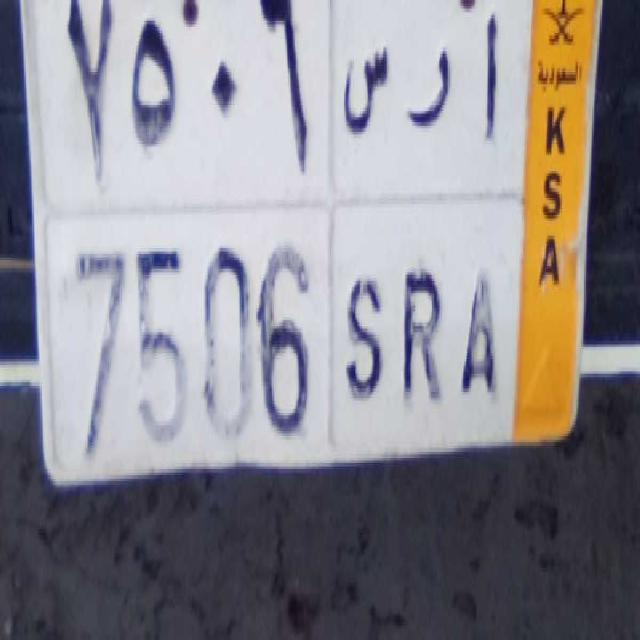license_plate: (40, 200, 516, 480)
